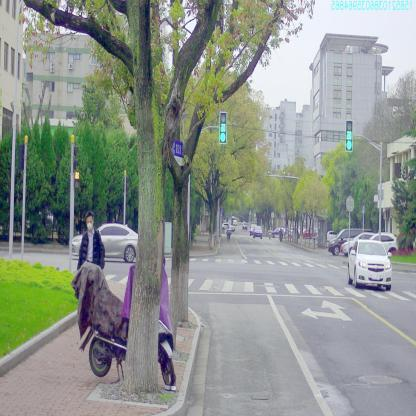traffic-light: (346, 120, 353, 151), (220, 112, 227, 143)
